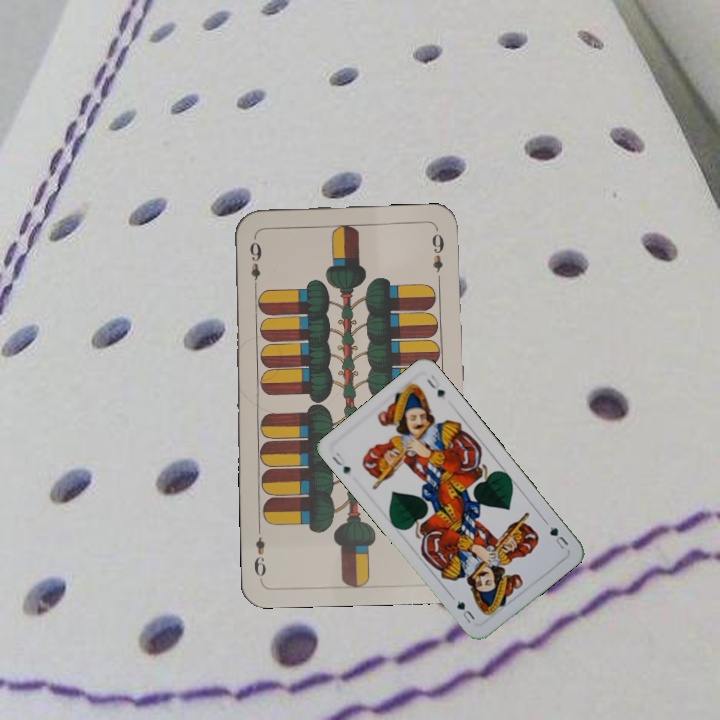E9: (245, 238, 264, 292)
GU: (545, 522, 571, 552), (328, 448, 353, 476)
